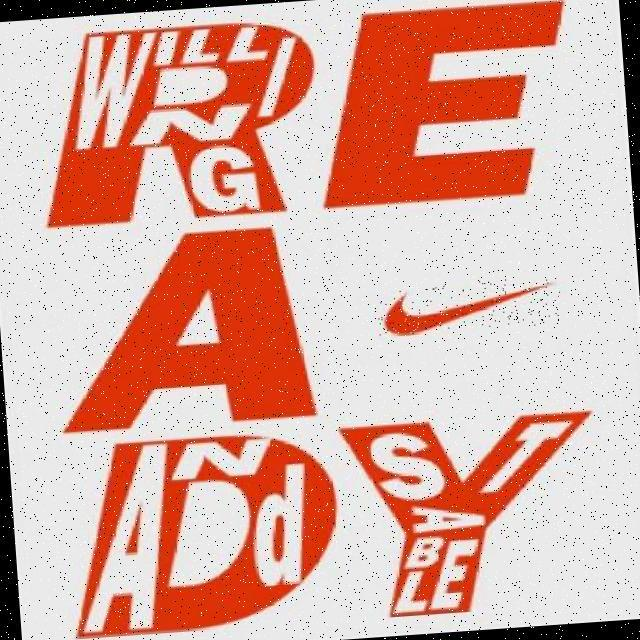Nike: (377, 275, 563, 336)
